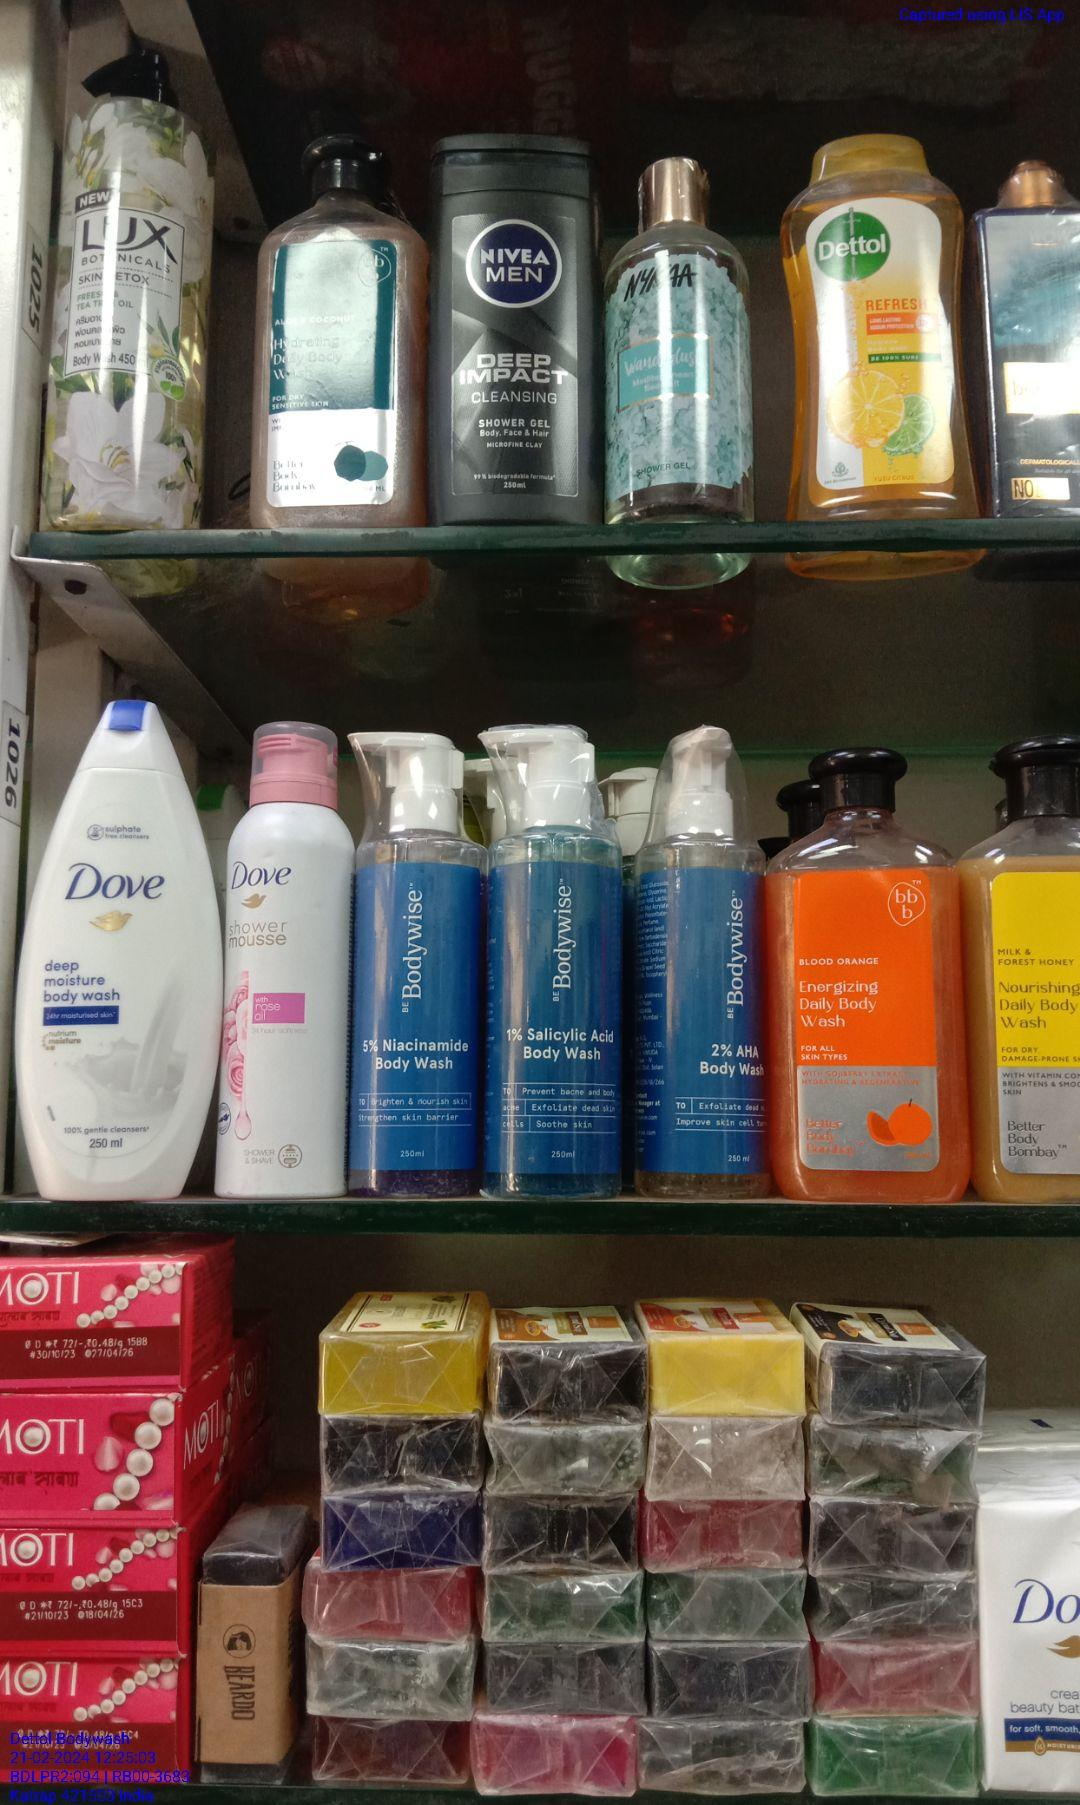Dettol_Bodywash_Refresh: (771, 126, 973, 513)
Dove_Deep_Moisture_Body_Wash_250ML: (13, 694, 228, 1202)
